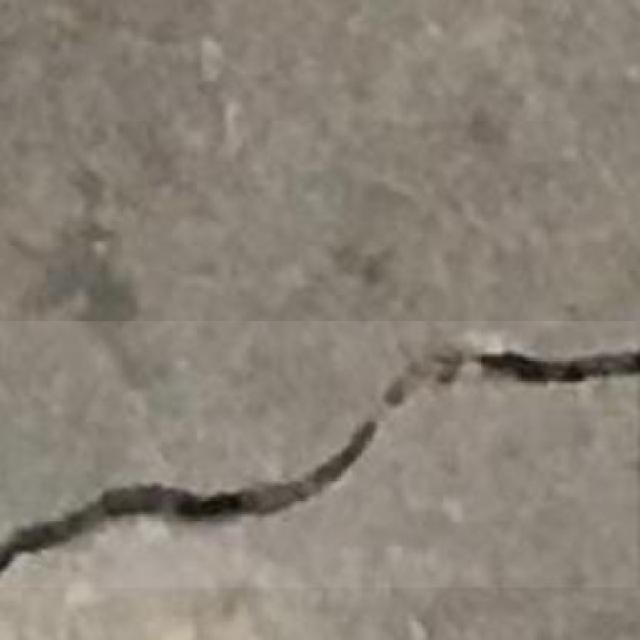Crack: (0, 326, 640, 573)
